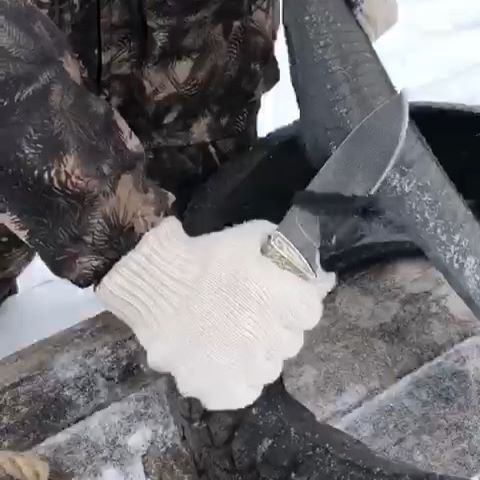knife: (261, 90, 408, 281)
